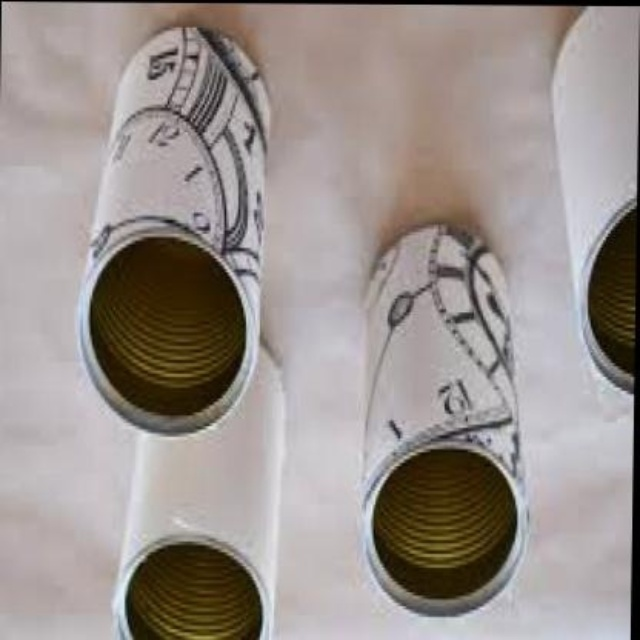trash: (78, 26, 283, 638), (80, 28, 268, 432), (362, 225, 526, 614), (552, 8, 638, 391)
